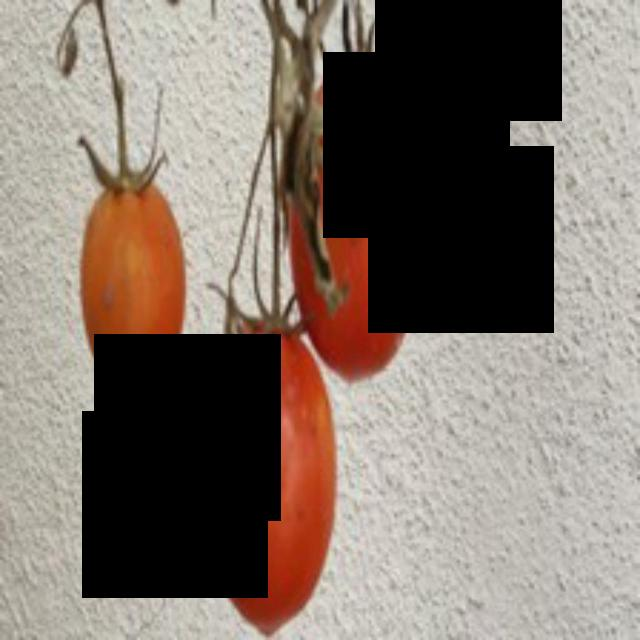tomato: (264, 63, 437, 389), (206, 315, 341, 638), (64, 170, 199, 407)
